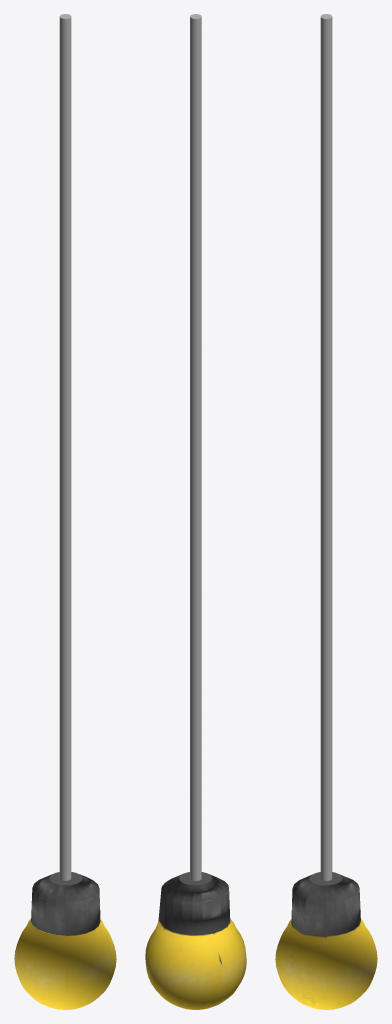
Rendered from Lightbulb.fbx.
3 renders of one model, left to right at view 1: azimuth 90°, elevation 25°; view 2: azimuth 210°, elevation 25°; view 3: azimuth 270°, elevation 25°, orthographic.
Parts seen in each view (by area): view 1: pCylinder5; view 2: pCylinder5; view 3: pCylinder5.
Part boxes in pixels (<box>): pCylinder5: <box>14,14,116,1009</box>; pCylinder5: <box>145,14,246,1009</box>; pCylinder5: <box>275,14,377,1009</box>.
Size of the model in its own units: 2.76 by 29.44 by 2.76.
Materials: 2 (1 with a texture image).
